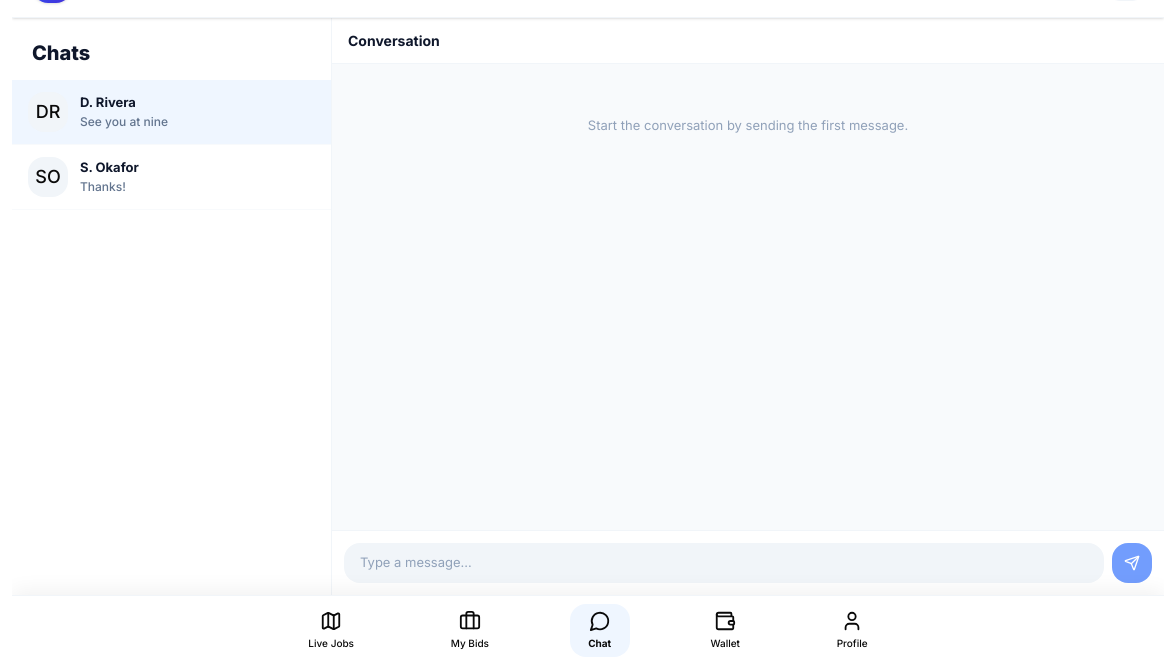
Test: provider workspace — a conversation is linkable › puts the chosen conversation in the URL
Click the text "S. Okafor" at (109, 167), box [80,159,139,175]
(page scrolled)
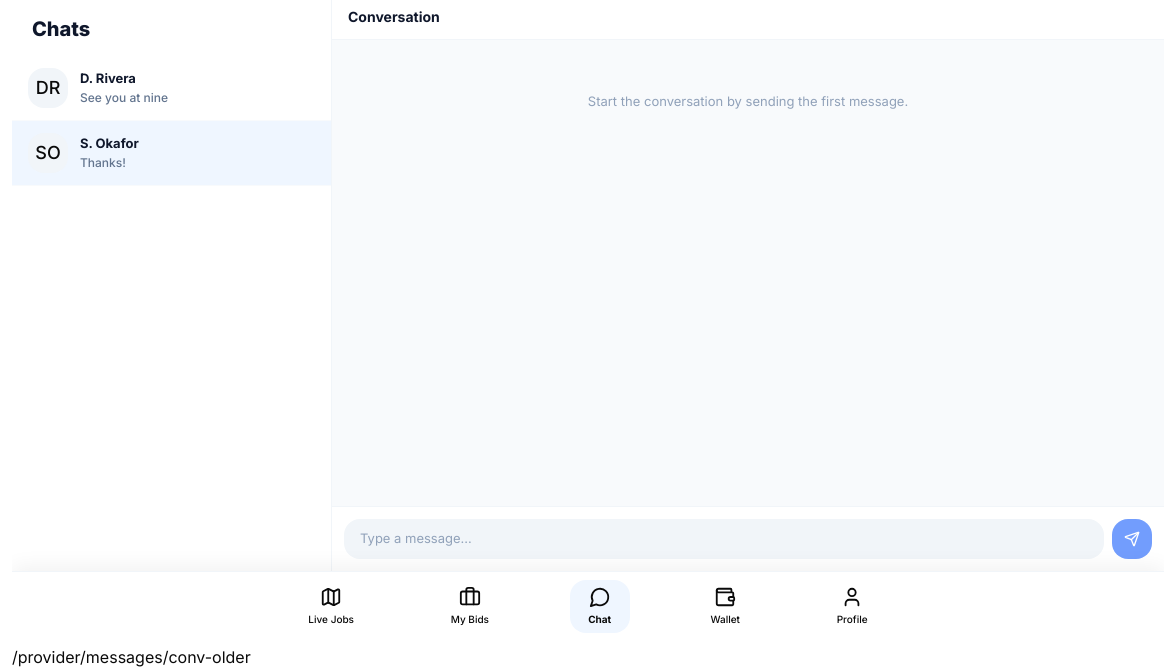
Result: the text with test id "url" reads "/provider/messages/conv-older" at [12,647,251,667]
